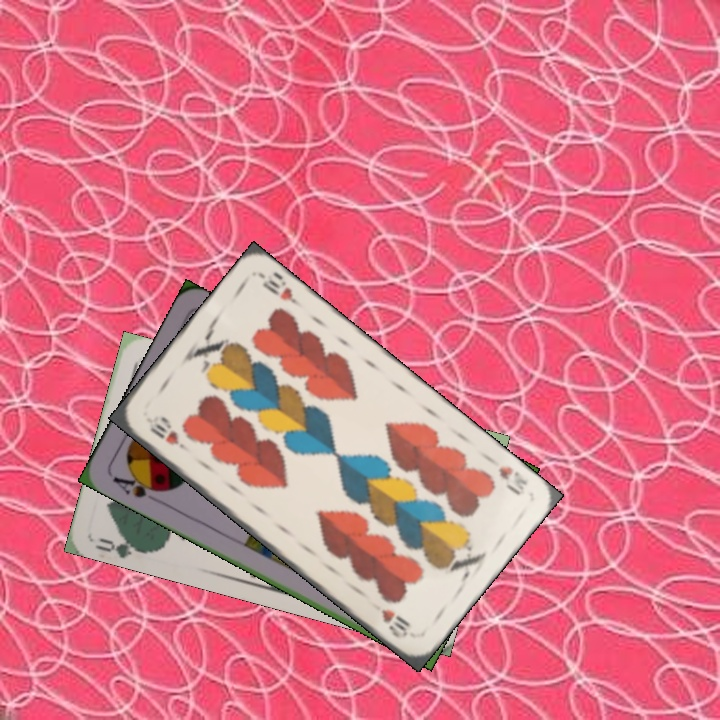GO: (91, 529, 151, 560)
H10: (145, 419, 192, 455), (494, 462, 530, 498)
SA: (108, 468, 167, 506)
